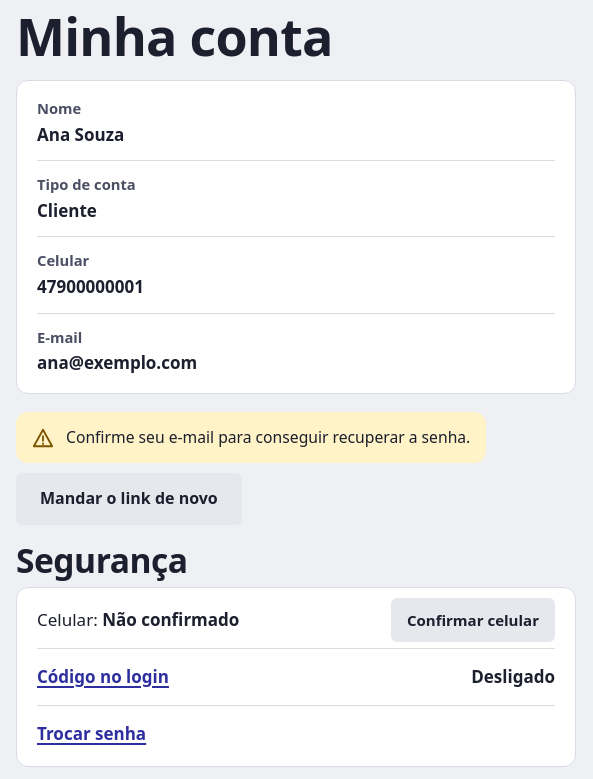
Scenario: /conta (Minha conta) › e-mail não confirmado: nota e "Mandar o link de novo" (POST), com resposta de sucesso
The image size is (593, 779).
Expected: the text "Confirme seu e-mail para conseguir recuperar a senha." is shown, [66,426,470,448]
Click the button "Mandar o link de novo".
click(129, 499)  # box [16,473,242,525]
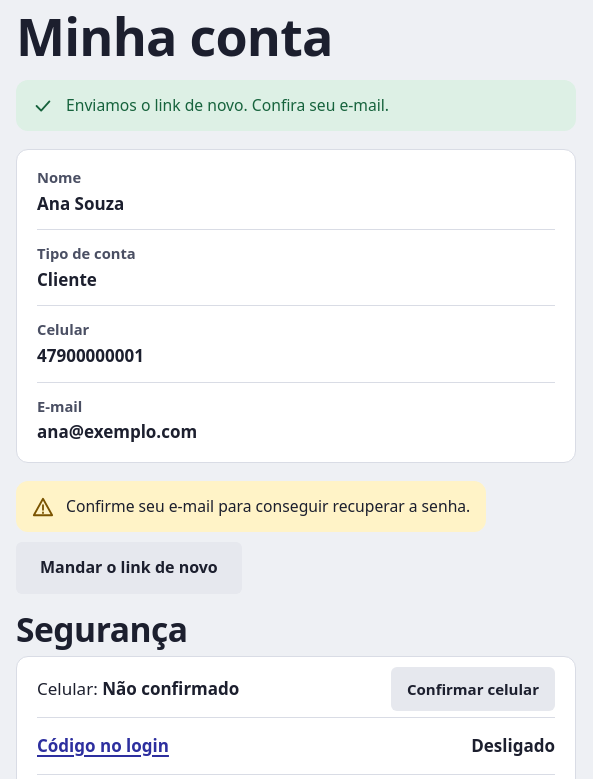
Now the text "Enviamos o link de novo. Confira seu e-mail." is shown, box [66,94,389,117]
